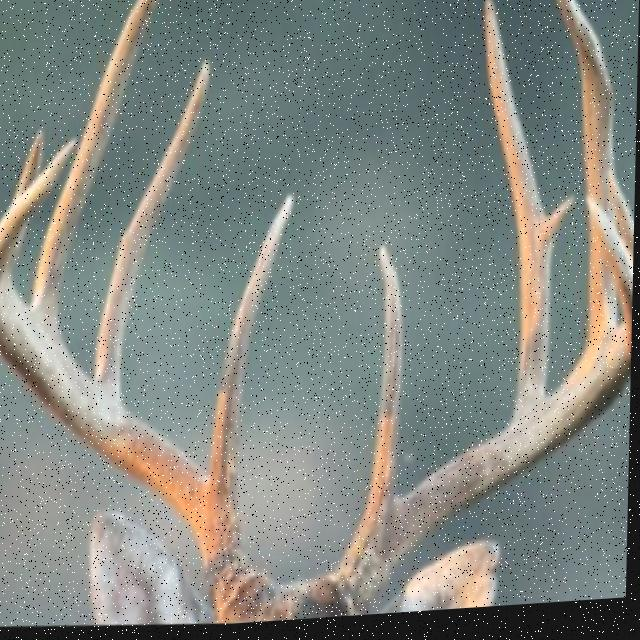E1: (545, 199, 577, 256)
L-F: (330, 200, 635, 621)
L-G1: (370, 245, 405, 515)
L-G2: (485, 1, 554, 427)
R-F: (0, 138, 263, 624)
R-G1: (211, 198, 297, 500)
R-G2: (95, 60, 211, 399)
R-G3: (31, 0, 160, 332)
